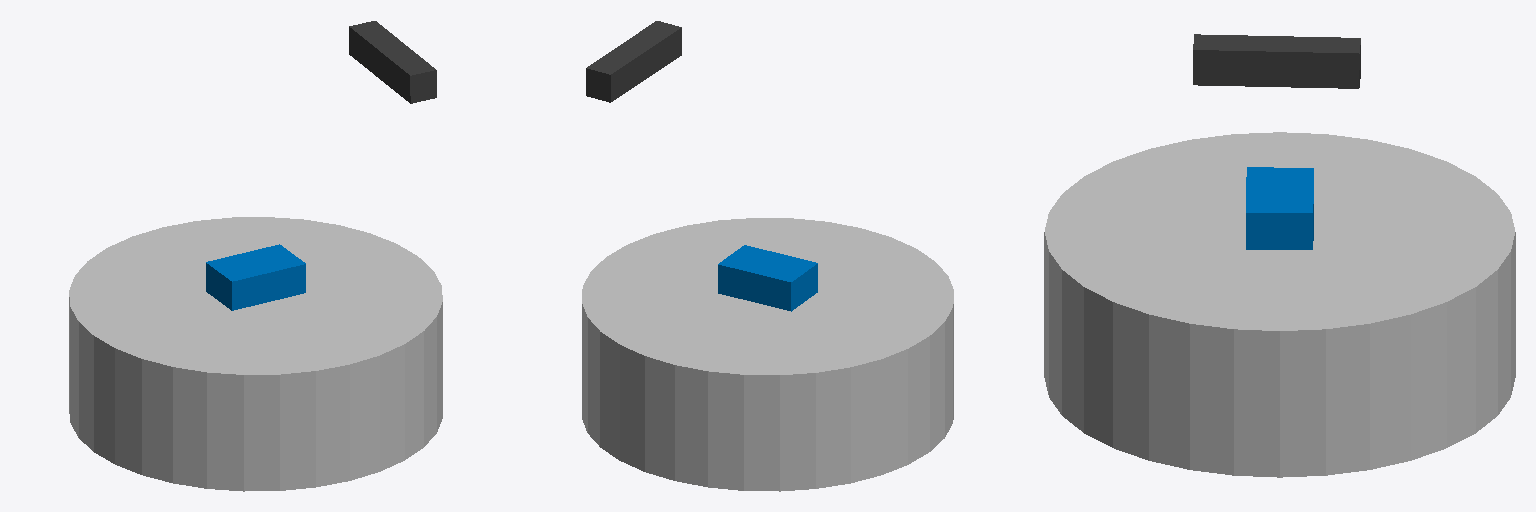
The robot description file, URDF, robot "my_awesome_robot":
<?xml version="1.0" encoding="utf-8"?>
<!-- 工业级 AMR 机器人核心描述文件 -->
<!-- 终极优化版：全局采用纯数学几何体(无任何 STL 模型)，极致压榨性能，彻底解决 SSH 下的 RViz 卡顿 -->
<robot name="my_awesome_robot" xmlns:xacro="http://ros.org/wiki/xacro">

  <!-- ======================================================== -->
  <!-- 1. 定义物理中心与地面投影 -->
  <!-- ======================================================== -->
  <!-- 虚拟的地面正投影点，供 Nav2 和 AMCL 定位使用 -->
  <link name="base_footprint"/>

  <!-- 精确校准：底盘中心 (base_link) 距离地面高度为 13.5mm (0.0135m) -->
  <joint name="base_footprint_joint" type="fixed">
    <origin xyz="0 0 0.0135" rpy="0 0 0"/>
    <parent link="base_footprint"/>
    <child link="base_link"/>
  </joint>

  <!-- ======================================================== -->
  <!-- 2. 小车主体 base_link (直径350mm, 高120mm 的圆柱体) -->
  <!-- ======================================================== -->
  <link name="base_link">
    <visual>
      <!-- Z轴抬高 0.06m (120mm的一半)，使得圆柱体底部正好落在 0 的位置 -->
      <origin xyz="0 0 0.06" rpy="0 0 0" />
      <geometry>
        <!-- 半径 175mm (0.175m)，高度 120mm (0.12m) -->
        <cylinder radius="0.175" length="0.12" />
      </geometry>
      <material name="white">
        <!-- 设为浅灰色，方便在 RViz 中观察 -->
        <color rgba="0.8 0.8 0.8 1" />
      </material>
    </visual>
    <!-- 碰撞体积与外观完全一致，Nav2 算力开销降到最低 -->
    <collision>
      <origin xyz="0 0 0.06" rpy="0 0 0" />
      <geometry>
        <cylinder radius="0.175" length="0.12" />
      </geometry>
    </collision>
  </link>

  <!-- ======================================================== -->
  <!-- 3. 相机物理外壳与螺纹孔 (倒装, 极简长方体优化) -->
  <!-- ======================================================== -->
  <link name="camera_color_screw_frame">
    <!-- 外观与碰撞均使用真实尺寸的长方体 (27.7mm x 124mm x 29mm) -->
    <visual>
      <origin xyz="0 0 0.0145" rpy="0 0 0" />
      <geometry>
        <box size="0.0277 0.124 0.029" />
      </geometry>
      <material name="dark_gray">
        <color rgba="0.3 0.3 0.3 1" />
      </material>
    </visual>
    <collision>
      <origin xyz="0 0 0.0145" rpy="0 0 0" />
      <geometry>
        <box size="0.0277 0.124 0.029" />
      </geometry>
    </collision>
  </link>

  <joint name="camera_color_screw_joint" type="fixed">
    <!-- 2026-09-12：203 mm 升高夹具安装后，用12组棋盘/墙平面数据标定。
         棋盘正面到墙面补偿为 3.0 mm 板厚 + 3.5 mm 胶层/间隙。 -->
    <origin xyz="0.146327 -0.002217 0.342200" rpy="3.138477 -0.004836 -0.043870" />
    <parent link="base_link" />
    <child link="camera_color_screw_frame" />
  </joint>

  <!-- ======================================================== -->
  <!-- 🌟 4. 终极桥接魔法：连接物理螺丝孔与相机光学驱动源头 -->
  <!-- ======================================================== -->
  <link name="camera_link"/>

  <joint name="screw_to_camera_link_joint" type="fixed">
    <origin xyz="0.011715 0.0475 0.014311" rpy="0 0 0" />
    <parent link="camera_color_screw_frame" />
    <child link="camera_link" />
  </joint>

  <!-- ======================================================== -->
  <!-- 5. 激光雷达 A2M12 (倒装, 极简圆柱体优化) -->
  <!-- ======================================================== -->
  <link name="laser">
    <visual>
      <origin xyz="0 0 0" rpy="0 0 0" />
      <geometry>
        <cylinder radius="0.038" length="0.041" />
      </geometry>
      <material name="black">
        <color rgba="0.2 0.2 0.2 1" />
      </material>
    </visual>
    <collision>
      <origin xyz="0 0 0" rpy="0 0 0" />
      <geometry>
        <cylinder radius="0.038" length="0.041" />
      </geometry>
    </collision>
  </link>

  <joint name="laser_joint" type="fixed">
    <!-- 将 Z 轴旋转 180 度修正模型误差 -->
    <origin xyz="0 0 0.096" rpy="3.1416 0 0" />
    <parent link="base_link" />
    <child link="laser" />
  </joint>

  <!-- ======================================================== -->
  <!-- 6. IMU 模块 (倒装, 长8cm宽5cm高3cm的长方体盒子) -->
  <!-- ======================================================== -->
  <link name="imu_link">
    <visual>
      <!-- 长方体中心对齐 joint，无需偏移 -->
      <origin xyz="0 0 0" rpy="0 0 0" />
      <geometry>
        <box size="0.08 0.05 0.03" />
      </geometry>
      <material name="blue">
        <color rgba="0.0 0.5 0.8 1" />
      </material>
    </visual>
    <collision>
      <origin xyz="0 0 0" rpy="0 0 0" />
      <geometry>
        <box size="0.08 0.05 0.03" />
      </geometry>
    </collision>
  </link>

  <joint name="imu_joint" type="fixed">
    <!-- SW 导出的倒装姿态等效 -->
    <origin xyz="0 0 0.139" rpy="-3.1416 0 3.1371" />
    <parent link="base_link" />
    <child link="imu_link" />
  </joint>

</robot>

--- Facts derived from the render (not from the file) ---
The picture shows the robot from 3 angles, left to right: view 1: azimuth 30°, elevation 25°; view 2: azimuth 150°, elevation 25°; view 3: azimuth 270°, elevation 25°; orthographic projection.
Model my_awesome_robot with 6 links and 5 joints (5 fixed), rooted at base_footprint, posed all joints at 0.
Visible links, largest first — view 1: base_link, imu_link, camera_color_screw_frame; view 2: base_link, imu_link, camera_color_screw_frame; view 3: base_link, camera_color_screw_frame, imu_link.
Boxes of the visible links, x1,y1,x2,y2 form: base_link: [69, 217, 442, 491]; imu_link: [206, 244, 305, 310]; camera_color_screw_frame: [349, 21, 436, 103]; base_link: [582, 218, 953, 491]; imu_link: [718, 245, 817, 311]; camera_color_screw_frame: [586, 21, 681, 102]; base_link: [1044, 132, 1515, 477]; camera_color_screw_frame: [1193, 34, 1360, 88]; imu_link: [1246, 167, 1313, 249].
Bounding box of the posed robot: 0.35 × 0.35 × 0.3425 m (x, y, z).
Geometry: primitives only (box / cylinder / sphere), no mesh files.
